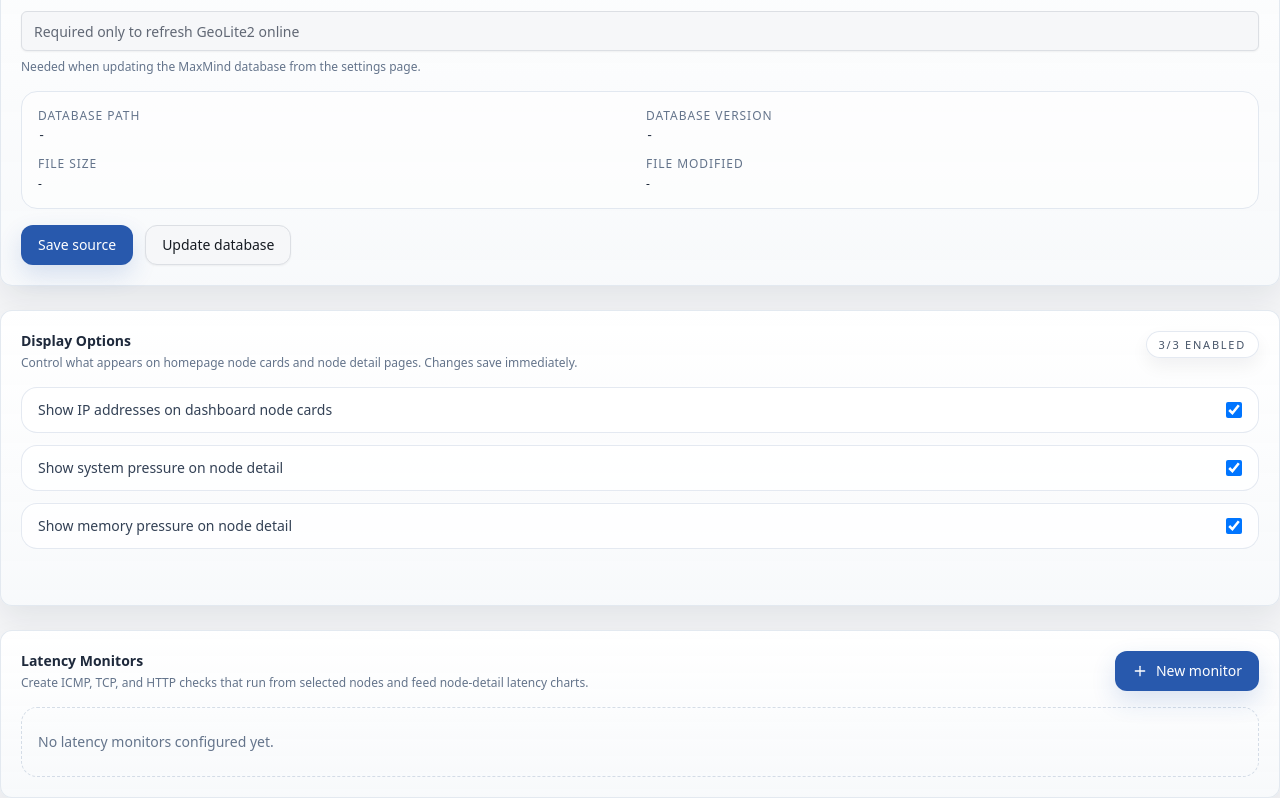
Test: settings page states › loads and auto-saves display options including pressure sections
The width and height of the screenshot is (1280, 798).
(page scrolled)
Expected: the heading "Display Options" is shown, [21,331,131,350]
Expected: the checkbox labelled "Show IP addresses on dashboard node cards" is checked, [1226,402,1242,418]
Step 1. Click the checkbox labelled "Show system pressure on node detail" → (1234, 468), box [1226,460,1242,476]
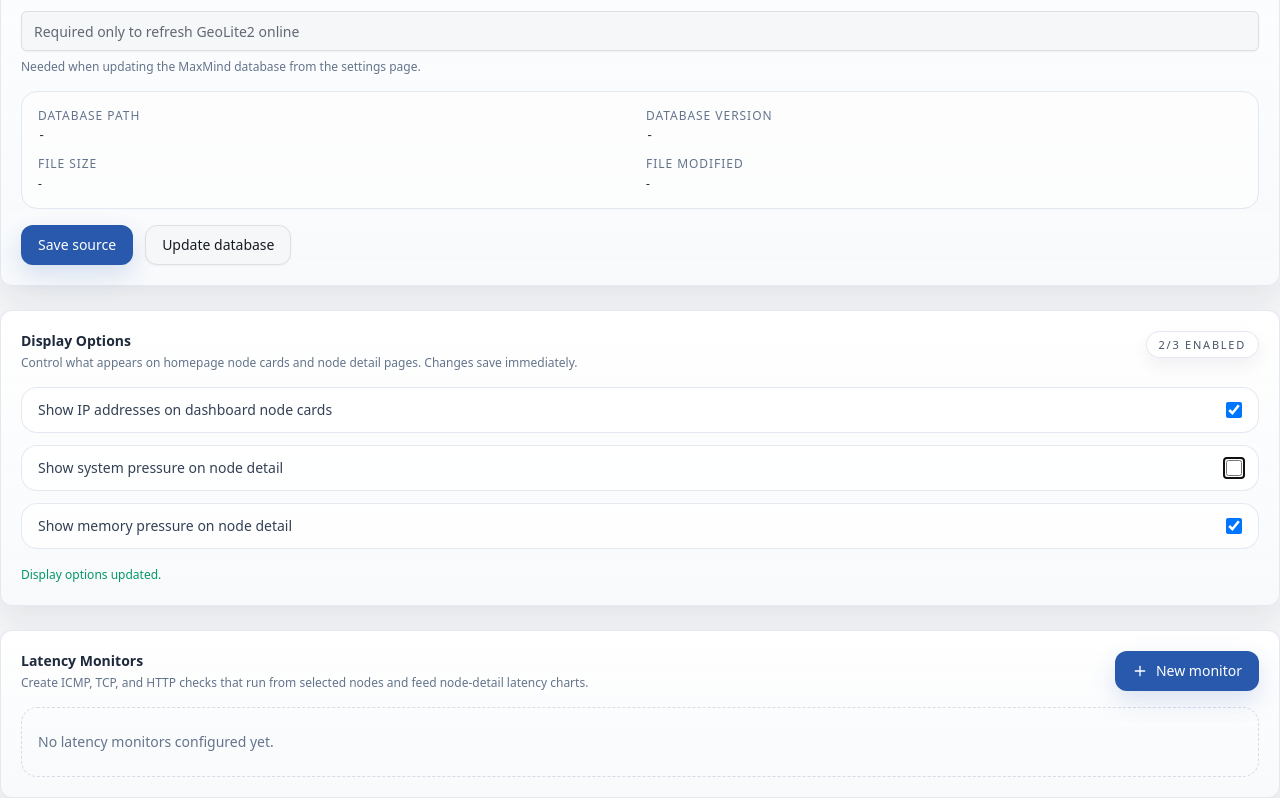
Result: the checkbox labelled "Show system pressure on node detail" is not checked at [1226,460,1242,476]
Result: the text "Display options updated." is shown at [21,567,161,583]
